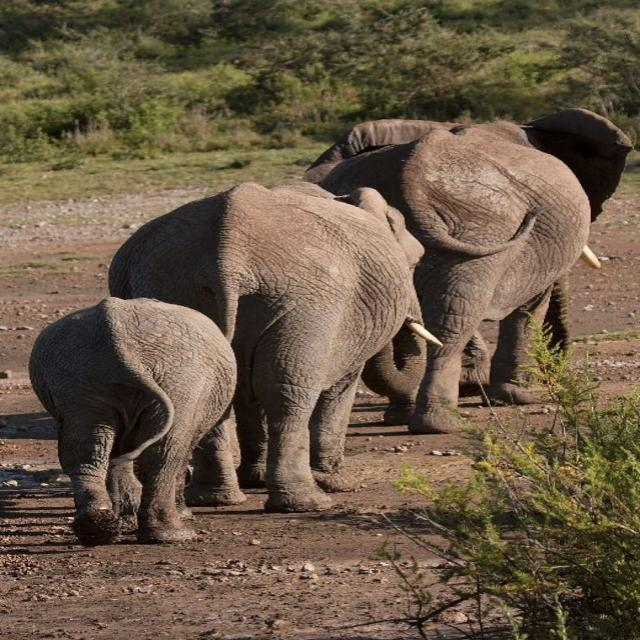elephant: (105, 181, 446, 509), (306, 105, 638, 408), (23, 298, 235, 544)
